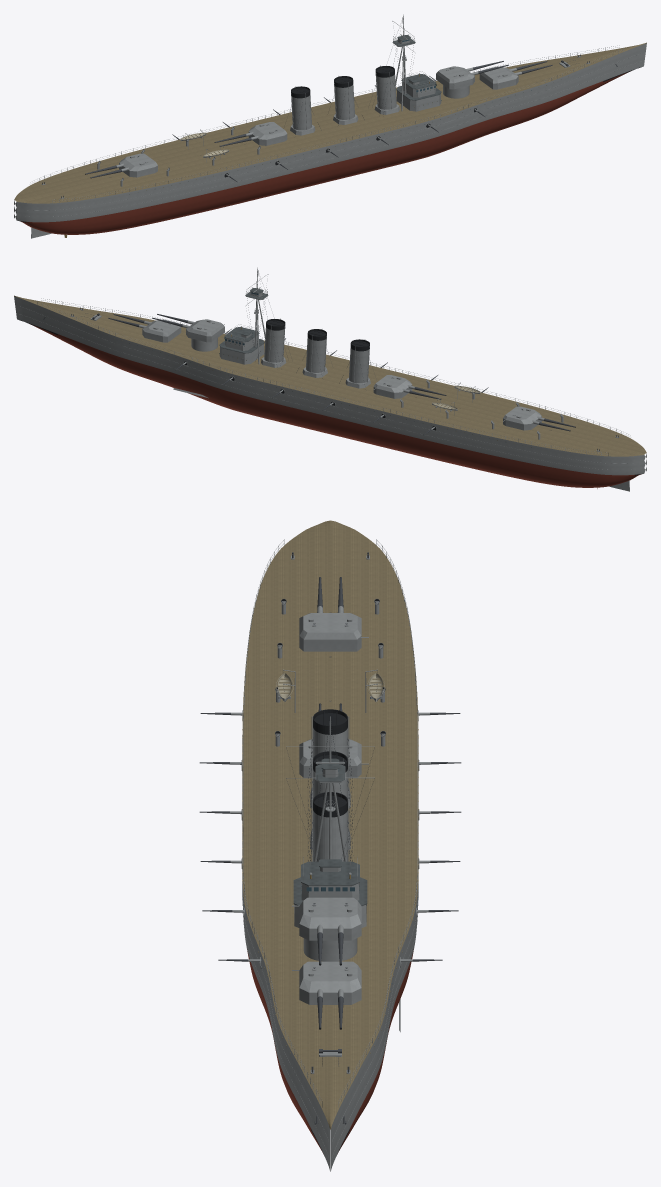
The model's file is tiger.glb.
3 renders of one model, top to bottom at view 1: azimuth 30°, elevation 25°; view 2: azimuth 150°, elevation 25°; view 3: azimuth 270°, elevation 25°, orthographic. The views are drawn at different scales.
Parts seen in each view (by area): view 1: Tiger; view 2: Tiger; view 3: Tiger.
Part boxes in pixels (x1=…): Tiger: x1=14, y1=14, x2=646, y2=238; Tiger: x1=14, y1=267, x2=646, y2=491; Tiger: x1=199, y1=520, x2=461, y2=1171.
Size of the model in its own units: 202 by 41.24 by 36.15.
Materials: 9 (8 with a texture image).
